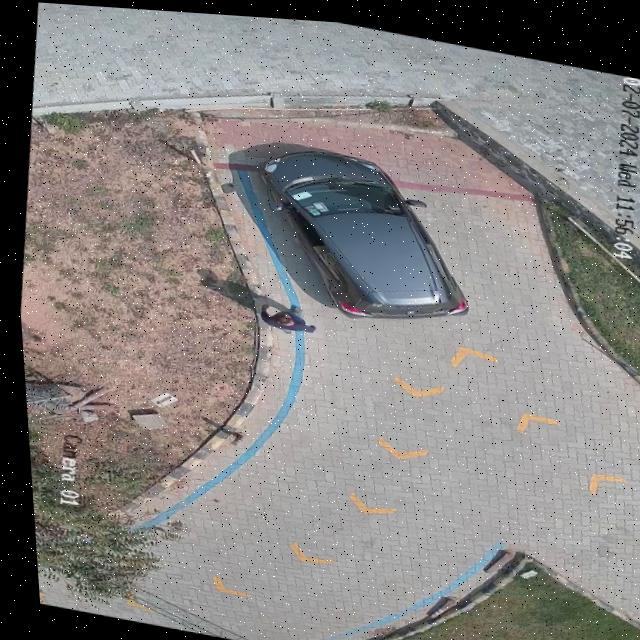car: (252, 144, 467, 314)
